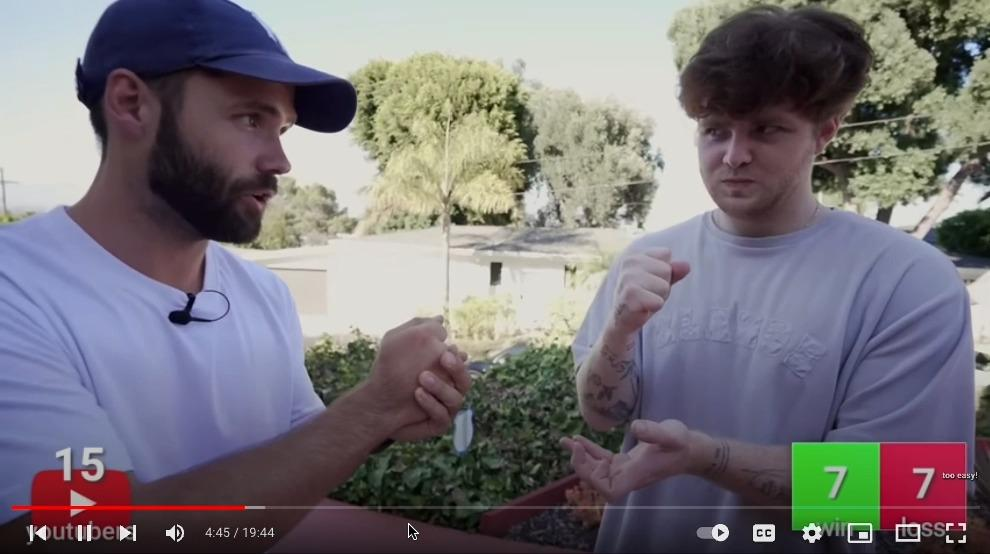Rock: (375, 311, 455, 432), (614, 245, 690, 327)
